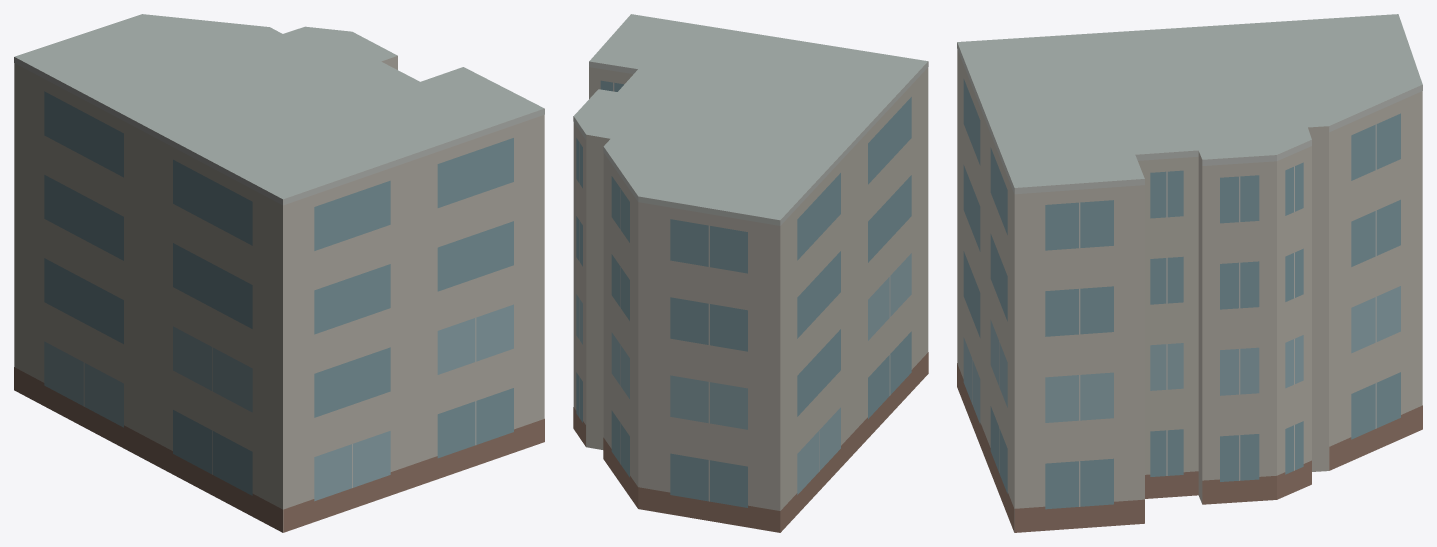
File: survey-upis-32646337.glb
3 views of the same model, side by side, from view 1: azimuth 30°, elevation 25°; view 2: azimuth 150°, elevation 25°; view 3: azimuth 270°, elevation 25° (orthographic). The views are drawn at different scales.
Parts seen in each view (by area): view 1: survey-upis-32646337.tmp; view 2: survey-upis-32646337.tmp; view 3: survey-upis-32646337.tmp.
Part boxes in pixels (x1=…): survey-upis-32646337.tmp: x1=14, y1=14, x2=544, y2=532; survey-upis-32646337.tmp: x1=573, y1=14, x2=928, y2=532; survey-upis-32646337.tmp: x1=957, y1=14, x2=1422, y2=532.
Size of the model in its own units: 14.4 by 13.3 by 16.29.
